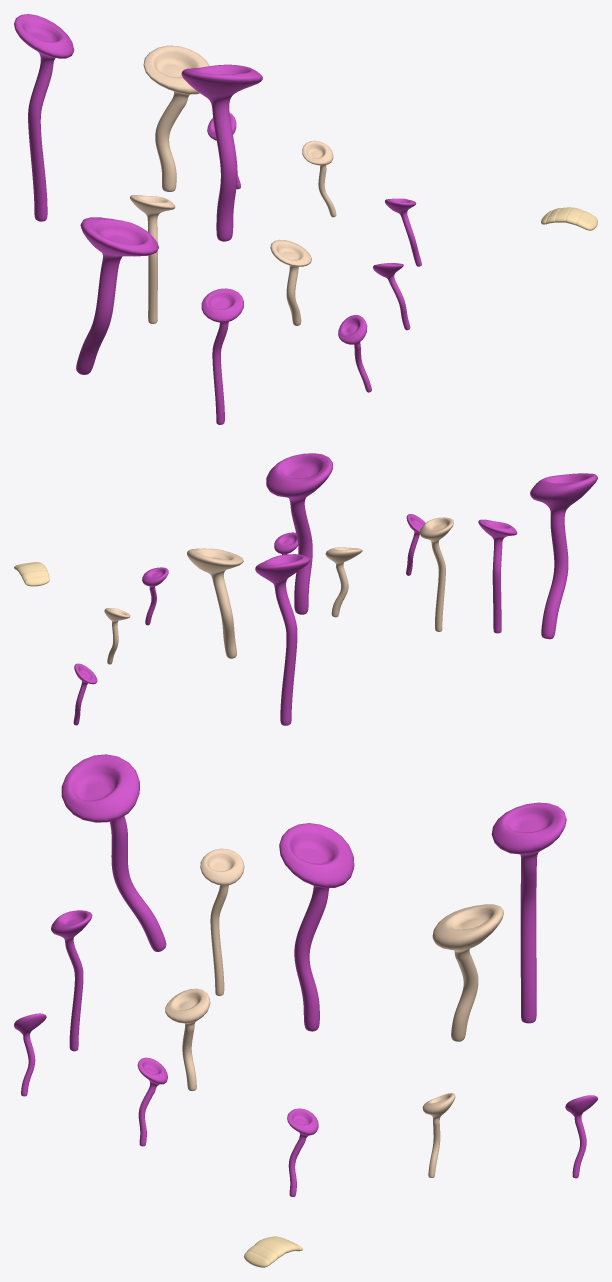
File: BrueckeLaternen.fbx
3 views of the same model, one above another, from view 1: azimuth 30°, elevation 25°; view 2: azimuth 150°, elevation 25°; view 3: azimuth 270°, elevation 25° (orthographic). The views are drawn at different scales.
Parts seen in each view (by area): view 1: pCylinder15, pCylinder21, pCylinder17, pCylinder16, pCylinder19, pCylinder18, pCylinder20, pCylinder25, pCylinder23, pCube245, pCylinder26, pCylinder22; view 2: pCylinder15, pCylinder21, pCylinder17, pCylinder16, pCylinder19, pCylinder18, pCylinder20, pCube245, pCylinder26, pCylinder24, pCylinder23, pCylinder25 (+1 smaller); view 3: pCylinder21, pCylinder15, pCylinder17, pCylinder16, pCylinder18, pCylinder19, pCylinder20, pCylinder26, pCube245, pCylinder22, pCylinder23, pCylinder25 (+1 smaller).
Part boxes in pixels (x1,y1,x2,y2): pCylinder15: (181, 64, 262, 241); pCylinder21: (76, 217, 158, 374); pCylinder17: (14, 14, 74, 221); pCylinder16: (143, 45, 209, 191); pCylinder19: (201, 288, 243, 424); pCylinder18: (130, 195, 175, 323); pCylinder20: (270, 239, 311, 325); pCylinder25: (338, 315, 371, 392); pCylinder23: (302, 140, 336, 217); pCube245: (541, 207, 597, 230); pCylinder26: (385, 198, 421, 266); pCylinder22: (373, 263, 410, 330); pCylinder15: (266, 453, 332, 614); pCylinder21: (530, 473, 597, 639); pCylinder17: (255, 554, 310, 725); pCylinder16: (187, 548, 243, 658); pCylinder19: (478, 519, 517, 633); pCylinder18: (419, 517, 453, 631); pCylinder20: (325, 547, 362, 617); pCube245: (14, 562, 49, 586); pCylinder26: (142, 567, 168, 625); pCylinder24: (73, 663, 97, 725); pCylinder23: (104, 608, 130, 664); pCylinder25: (406, 514, 425, 575); pCylinder21: (61, 754, 166, 951); pCylinder15: (279, 823, 354, 1031); pCylinder17: (491, 802, 566, 1023); pCylinder16: (432, 904, 503, 1041); pCylinder18: (200, 848, 244, 995); pCylinder19: (51, 910, 92, 1051); pCylinder20: (165, 988, 210, 1090); pCylinder26: (287, 1108, 318, 1196); pCube245: (244, 1236, 302, 1267); pCylinder22: (137, 1057, 167, 1146); pCylinder23: (422, 1093, 455, 1177); pCylinder25: (14, 1013, 46, 1096).
Bounding box in the file's own units: 185 × 75.63 × 148.
